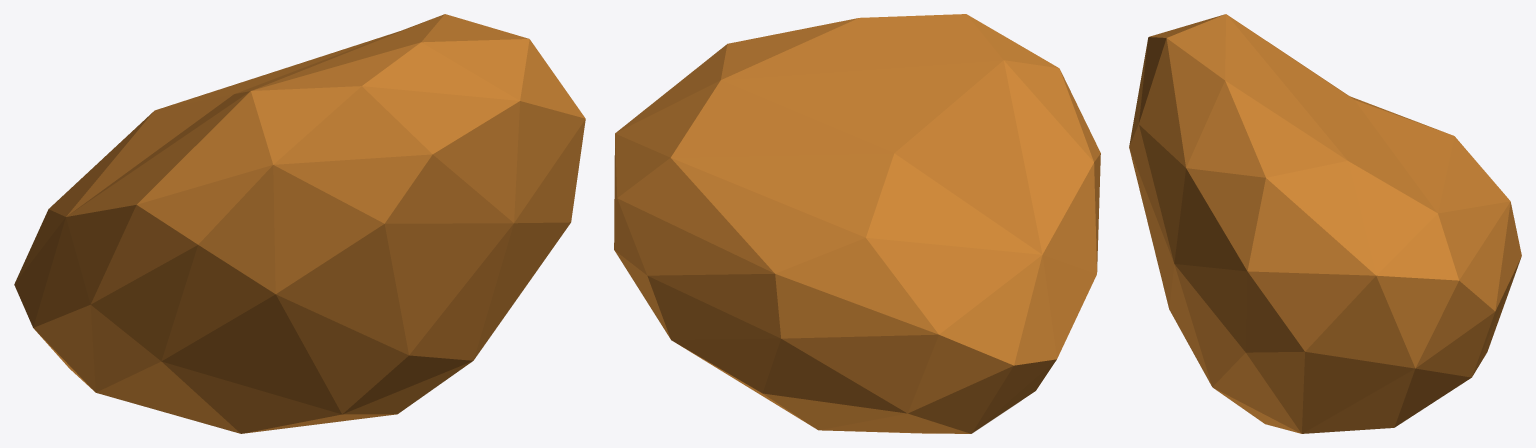
Rendered from Pootato_2.fbx.
The picture shows the model from 3 angles, left to right: view 1: azimuth 30°, elevation 25°; view 2: azimuth 150°, elevation 25°; view 3: azimuth 270°, elevation 25°; orthographic projection. The views are drawn at different scales.
Visible parts, largest first — view 1: Pootato_2; view 2: Pootato_2; view 3: Pootato_2.
Part boxes in pixels (<box>): Pootato_2: <box>14,14,585,433</box>; Pootato_2: <box>614,14,1100,433</box>; Pootato_2: <box>1129,14,1521,433</box>.
Bounding box in the file's own units: 8.25 × 6.18 × 6.2.
